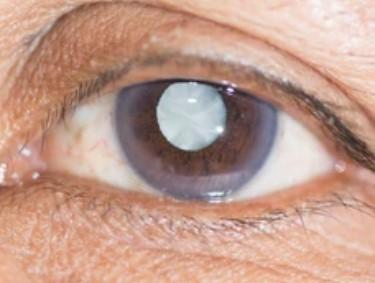eye: (114, 78, 280, 201)
